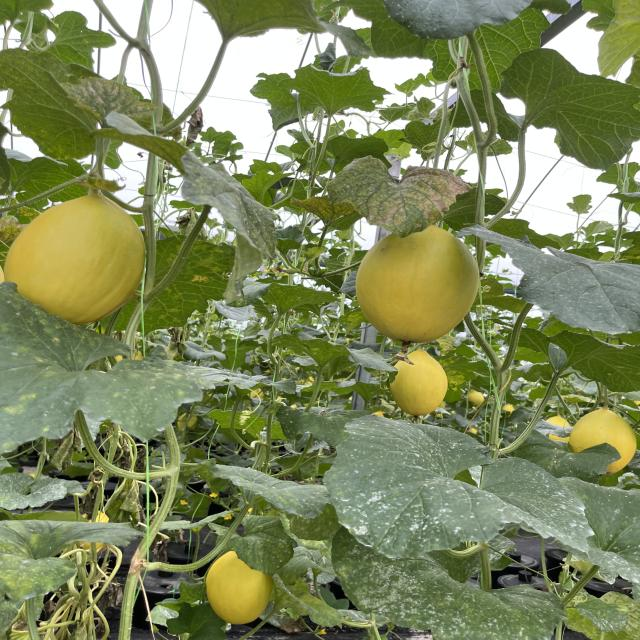alternaria leaf blight: (102, 109, 288, 301), (330, 144, 479, 238)
downy mildew: (0, 286, 241, 453), (474, 222, 640, 344)
powdery mildew: (323, 401, 593, 555), (332, 534, 563, 640)
